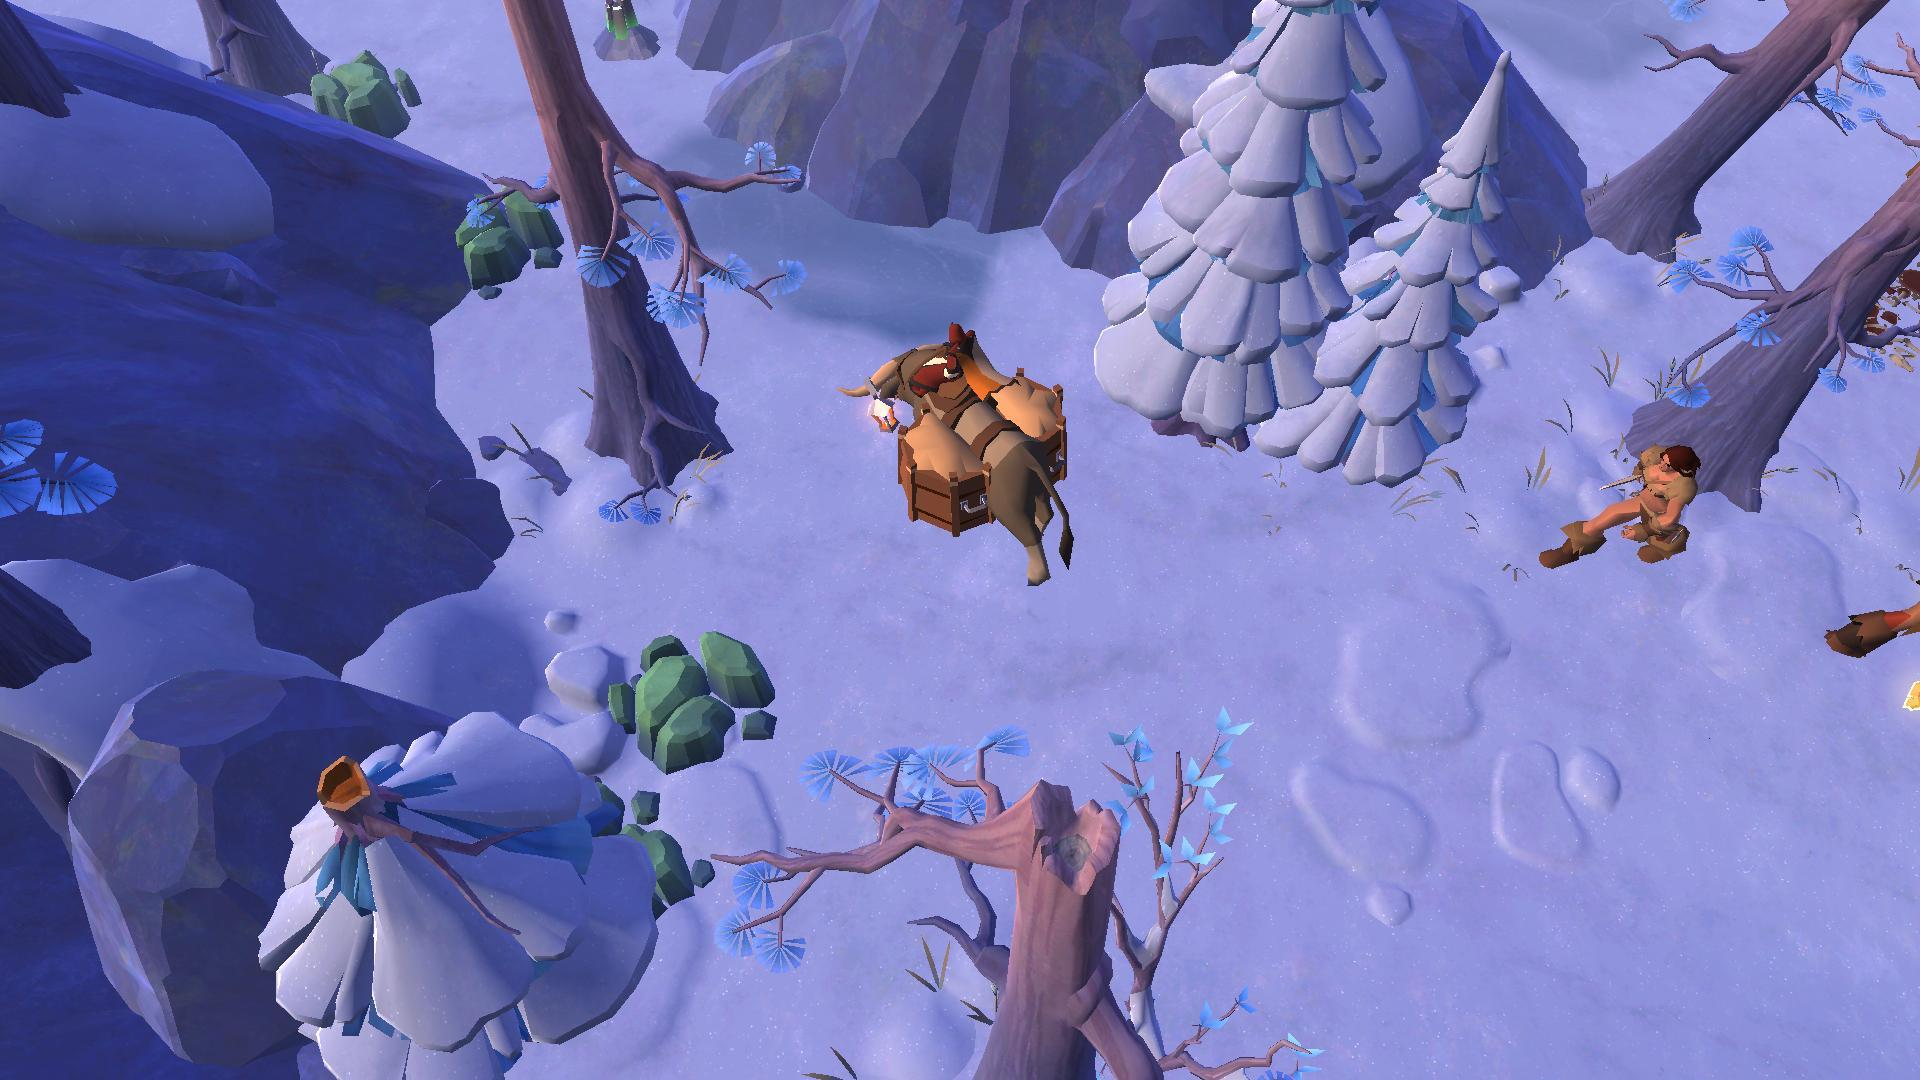enemy_factionKeeper: (1557, 431, 1696, 575)
ore_t3: (601, 0, 641, 41)
rock_t3: (595, 621, 785, 769), (585, 781, 712, 923), (448, 179, 574, 295), (301, 44, 421, 145)
